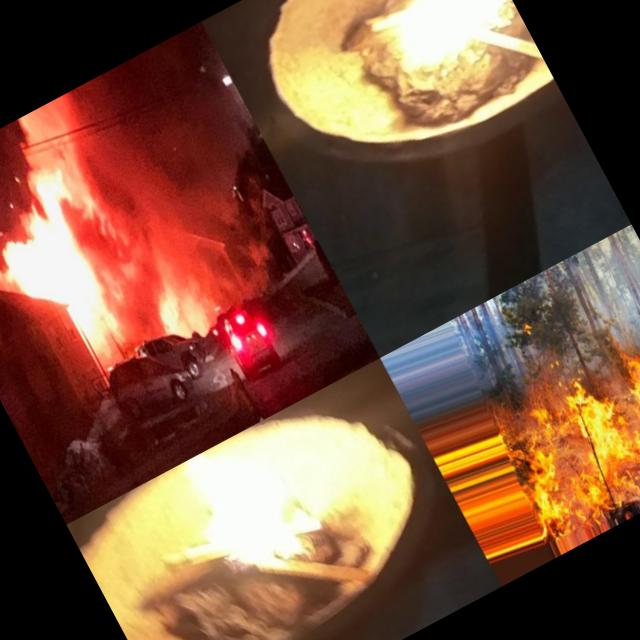fire: (148, 389, 392, 616), (495, 324, 640, 541), (0, 165, 127, 369), (345, 0, 529, 107), (146, 279, 206, 346), (38, 160, 76, 212)
smoke: (68, 120, 204, 298), (62, 196, 165, 349), (6, 64, 145, 170), (181, 238, 286, 331), (0, 244, 22, 302)
